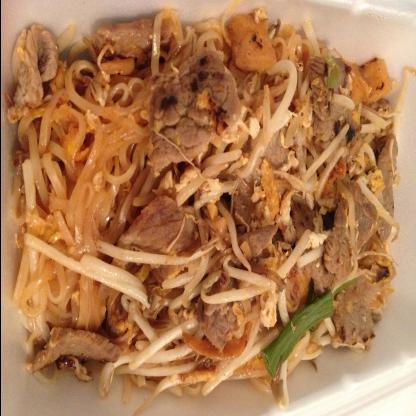Pad Thai: (7, 26, 405, 400)
